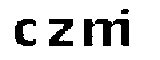c: (11, 17, 40, 52)
i: (121, 5, 136, 51)
m: (81, 17, 125, 51)
z: (47, 17, 77, 48)
